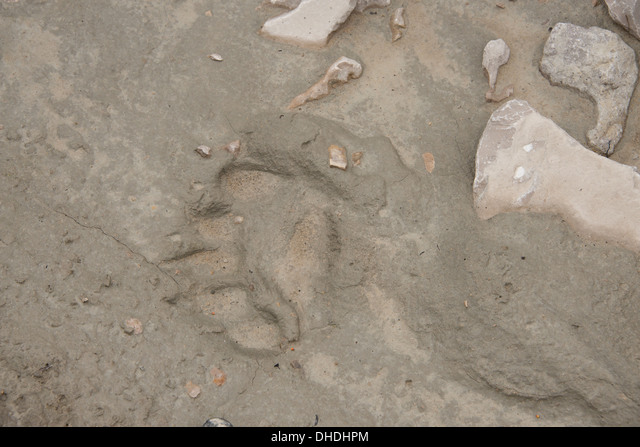bear: (114, 119, 373, 368)
